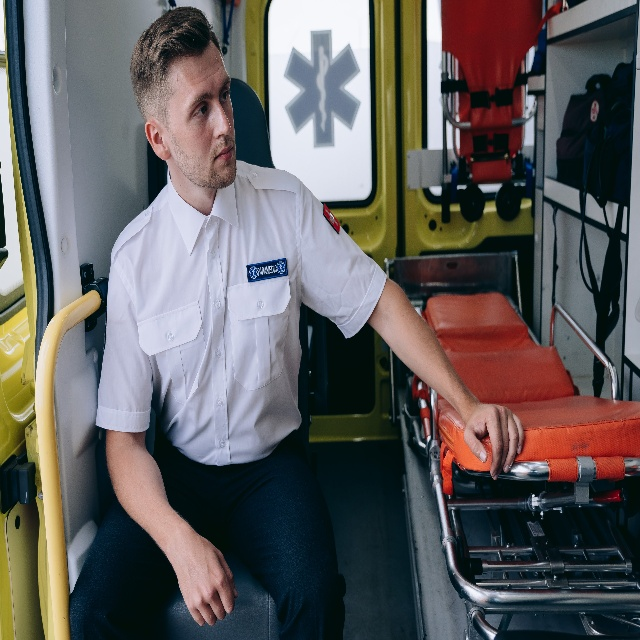Sin_guantes: (181, 527, 238, 631), (465, 401, 527, 481)
